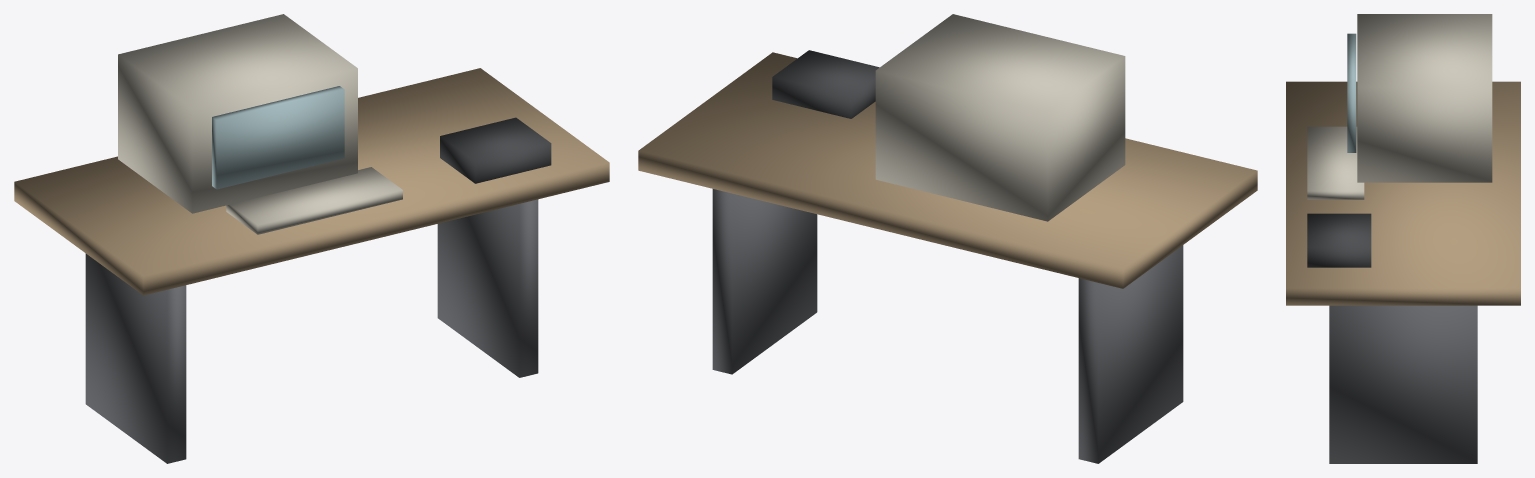
The model's file is crt_workstation__squat.glb.
The picture shows the model from 3 angles, left to right: view 1: azimuth 30°, elevation 25°; view 2: azimuth 150°, elevation 25°; view 3: azimuth 270°, elevation 25°; orthographic projection. The views are drawn at different scales.
Visible parts, largest first — view 1: world; view 2: world; view 3: world.
Boxes of the visible parts, x1,y1,x2,y2 form: world: (14, 14, 609, 463); world: (638, 14, 1257, 463); world: (1286, 14, 1520, 463).
Bounding box in the file's own units: 1.49 × 1.02 × 0.7128.
